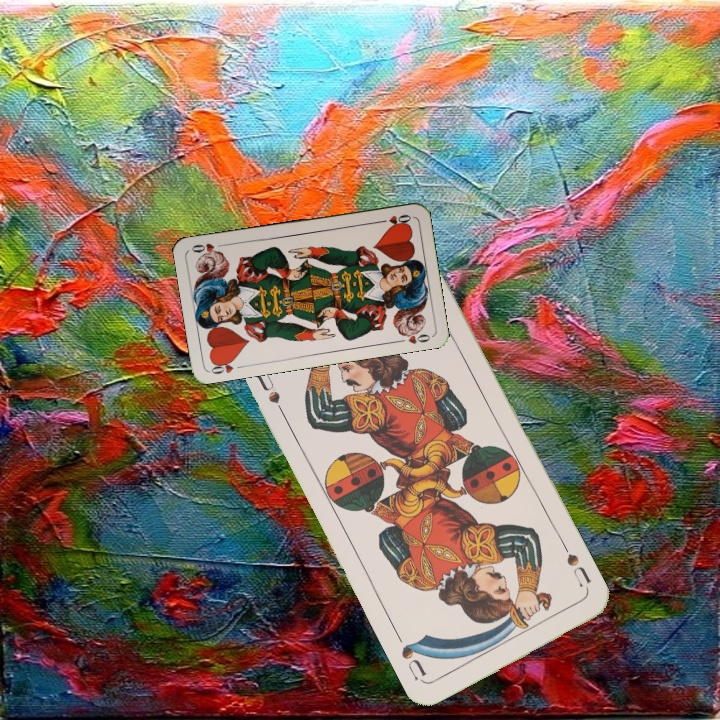HO: (374, 210, 414, 228), (207, 355, 238, 377)
SU: (252, 369, 291, 425), (562, 549, 594, 590)
